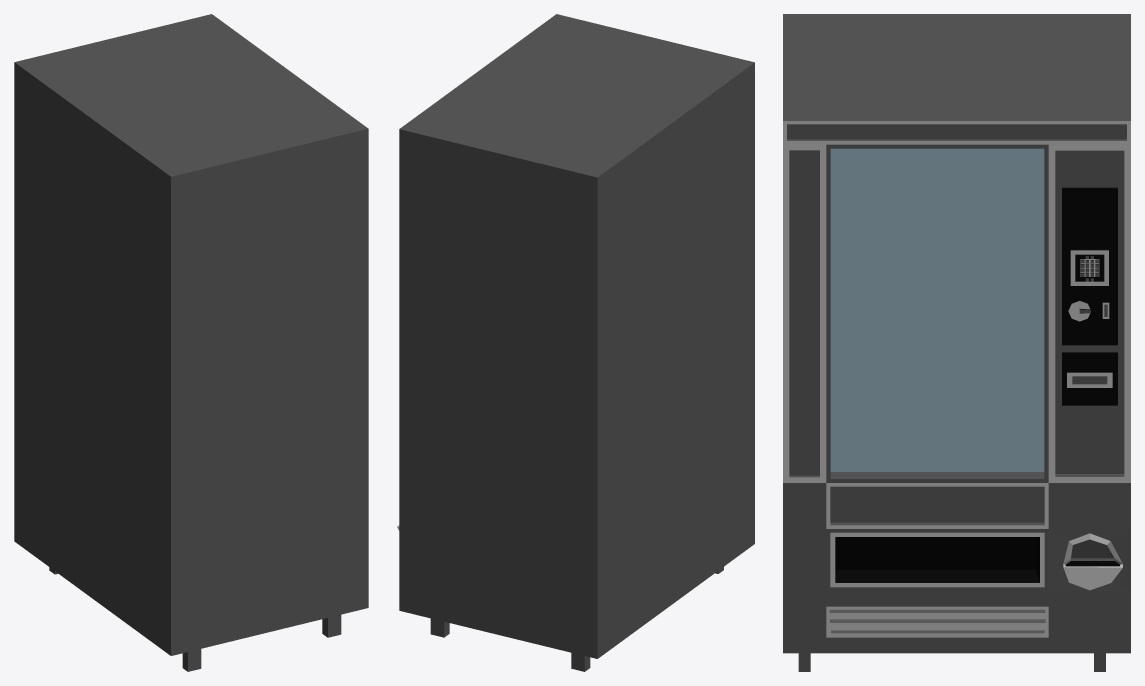
Rendered from VendingMachine.fbx.
3 renders of one model, left to right at view 1: azimuth 30°, elevation 25°; view 2: azimuth 150°, elevation 25°; view 3: azimuth 270°, elevation 25°, orthographic. The views are drawn at different scales.
Parts seen in each view (by area): view 1: VendingMachine; view 2: VendingMachine; view 3: VendingMachine, Glass.
Boxes of the visible parts, box(x1,y1,x2,y2) form: VendingMachine: box(14, 14, 368, 671); VendingMachine: box(397, 14, 754, 671); VendingMachine: box(783, 14, 1130, 671); Glass: box(830, 148, 1044, 471).
Size of the model in its own units: 2.07 by 4.9 by 2.75.
